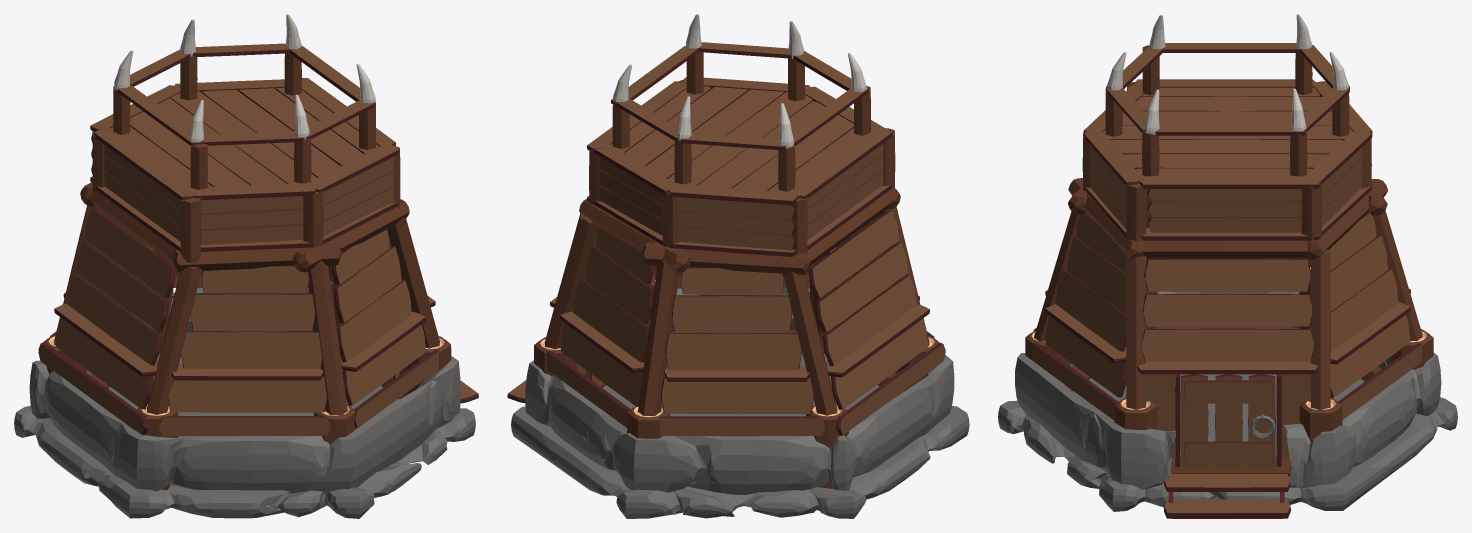
The model's file is barrack.fbx.
3 views of the same model, side by side, from view 1: azimuth 30°, elevation 25°; view 2: azimuth 150°, elevation 25°; view 3: azimuth 270°, elevation 25° (orthographic).
Visible parts, largest first — view 1: Cylinder.097, Cylinder.096, Cylinder.043, Cylinder.042, Cylinder.044, Cylinder.022, Cylinder.020, Cylinder.046, Cylinder.021, Cylinder.005, Cylinder.019, Cylinder.006 (+58 smaller); view 2: Cylinder.097, Cylinder.096, Cylinder.026, Cylinder.025, Cylinder.027, Cylinder.022, Cylinder.020, Cylinder.003, Cylinder.021, Cylinder.024, Cylinder.019, Cylinder.001 (+58 smaller); view 3: Cylinder.097, Cylinder.096, Cylinder.015, Cylinder.017, Cylinder.018, Cylinder.007, Cylinder.002, Cylinder.004, Cylinder.050, Cylinder.038, Cylinder.031, Cylinder.037 (+62 smaller).
Part boxes in pixels (x1=…): Cylinder.097: x1=29, y1=288, x2=460, y2=493; Cylinder.096: x1=14, y1=353, x2=475, y2=518; Cylinder.043: x1=181, y1=331, x2=322, y2=368; Cylinder.042: x1=168, y1=376, x2=326, y2=412; Cylinder.044: x1=190, y1=293, x2=315, y2=331; Cylinder.022: x1=67, y1=274, x2=161, y2=365; Cylinder.020: x1=76, y1=241, x2=168, y2=331; Cylinder.046: x1=158, y1=416, x2=330, y2=435; Cylinder.021: x1=85, y1=209, x2=175, y2=297; Cylinder.005: x1=147, y1=266, x2=201, y2=414; Cylinder.019: x1=55, y1=318, x2=153, y2=409; Cylinder.006: x1=308, y1=261, x2=347, y2=415; Cylinder.097: x1=525, y1=288, x2=954, y2=494; Cylinder.096: x1=511, y1=352, x2=969, y2=518; Cylinder.026: x1=665, y1=332, x2=801, y2=370; Cylinder.025: x1=660, y1=376, x2=814, y2=414; Cylinder.027: x1=672, y1=295, x2=792, y2=332; Cylinder.022: x1=822, y1=275, x2=916, y2=365; Cylinder.020: x1=815, y1=242, x2=908, y2=332; Cylinder.003: x1=638, y1=261, x2=679, y2=415; Cylinder.021: x1=808, y1=210, x2=899, y2=298; Cylinder.024: x1=657, y1=416, x2=824, y2=436; Cylinder.019: x1=830, y1=319, x2=928, y2=409; Cylinder.001: x1=783, y1=271, x2=837, y2=415; Cylinder.097: x1=1015, y1=291, x2=1441, y2=489; Cylinder.096: x1=998, y1=374, x2=1457, y2=511; Cylinder.015: x1=1141, y1=328, x2=1314, y2=361; Cylinder.017: x1=1142, y1=293, x2=1313, y2=326; Cylinder.018: x1=1144, y1=258, x2=1311, y2=291; Cylinder.007: x1=1141, y1=239, x2=1308, y2=258; Cylinder.002: x1=1310, y1=249, x2=1330, y2=409; Cylinder.004: x1=1126, y1=253, x2=1146, y2=409; Cylinder.050: x1=1110, y1=139, x2=1342, y2=154; Cylinder.038: x1=1055, y1=269, x2=1126, y2=351; Cylinder.031: x1=1331, y1=268, x2=1398, y2=352; Cylinder.037: x1=1045, y1=316, x2=1126, y2=397.
Size of the model in its own units: 1314 by 1254 by 1384.
